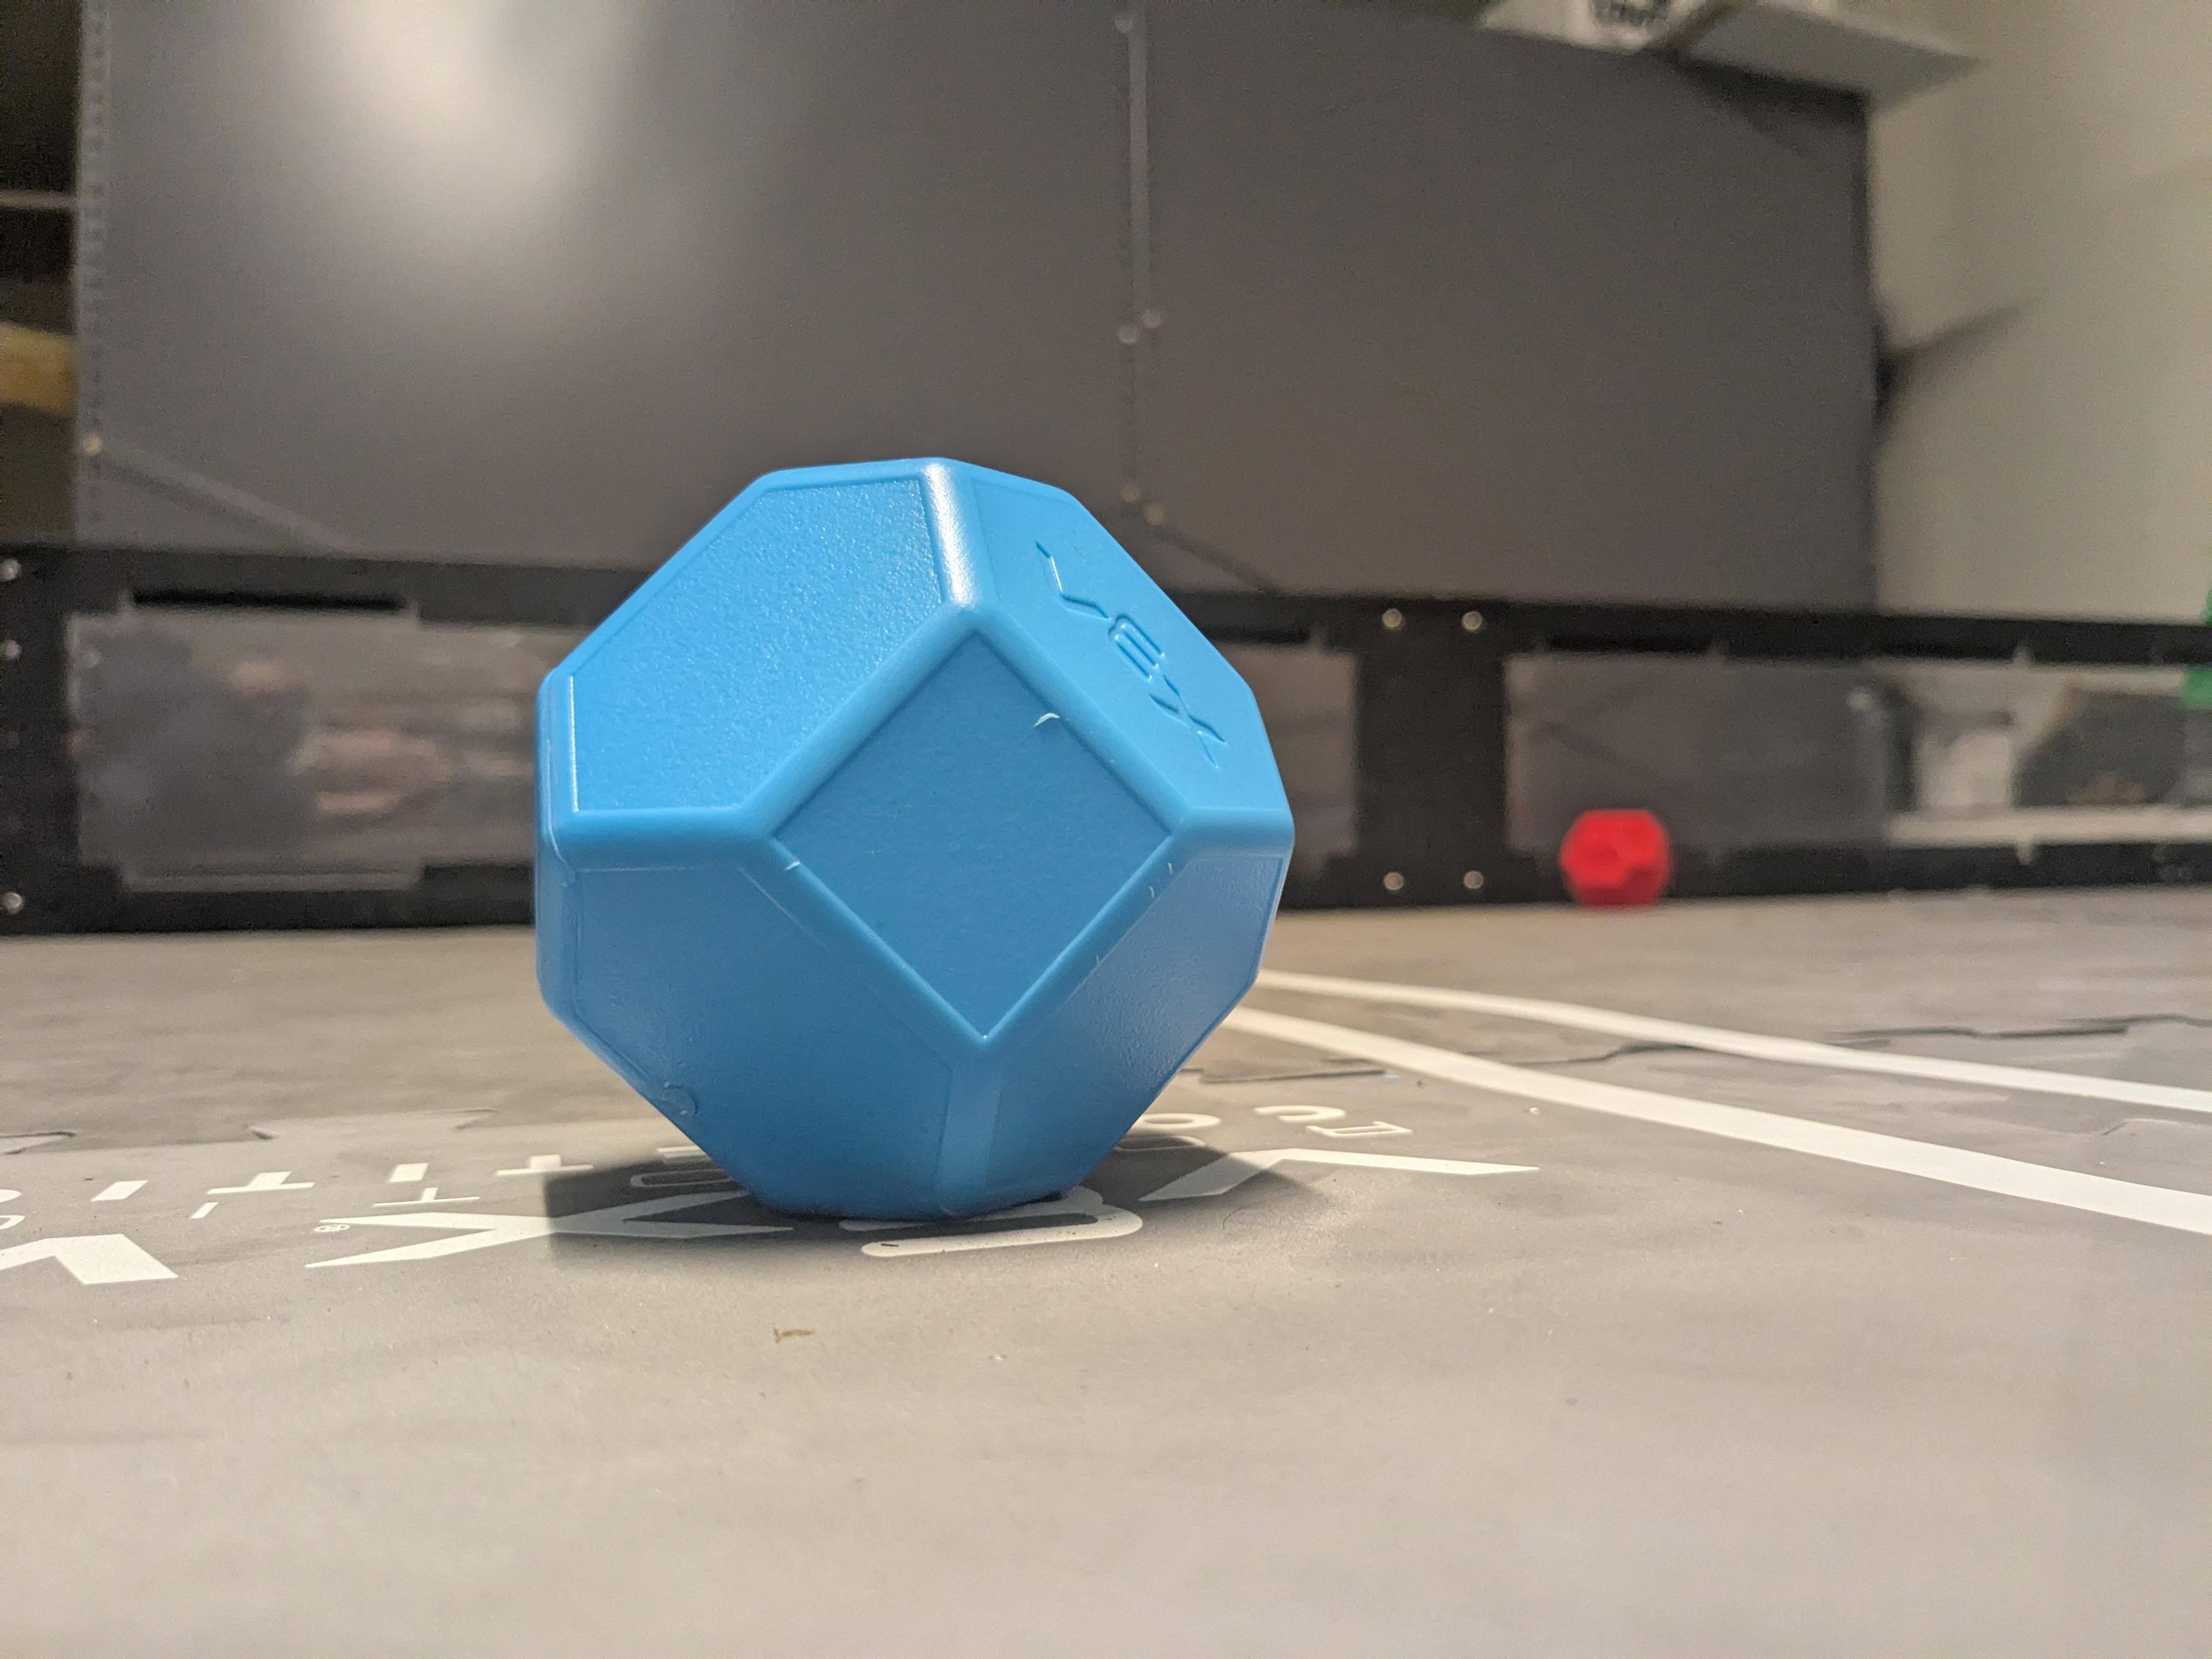Vex-Pieces-BLUE: (533, 455, 1296, 1229)
